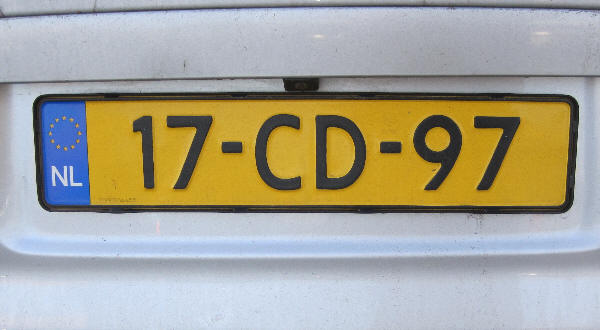license_plate: (33, 94, 577, 214)
